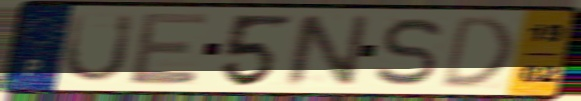5: (215, 12, 299, 88)
D: (437, 13, 517, 91)
E: (127, 10, 213, 87)
N: (282, 12, 375, 89)
S: (372, 15, 446, 88)
U: (59, 12, 139, 86)
